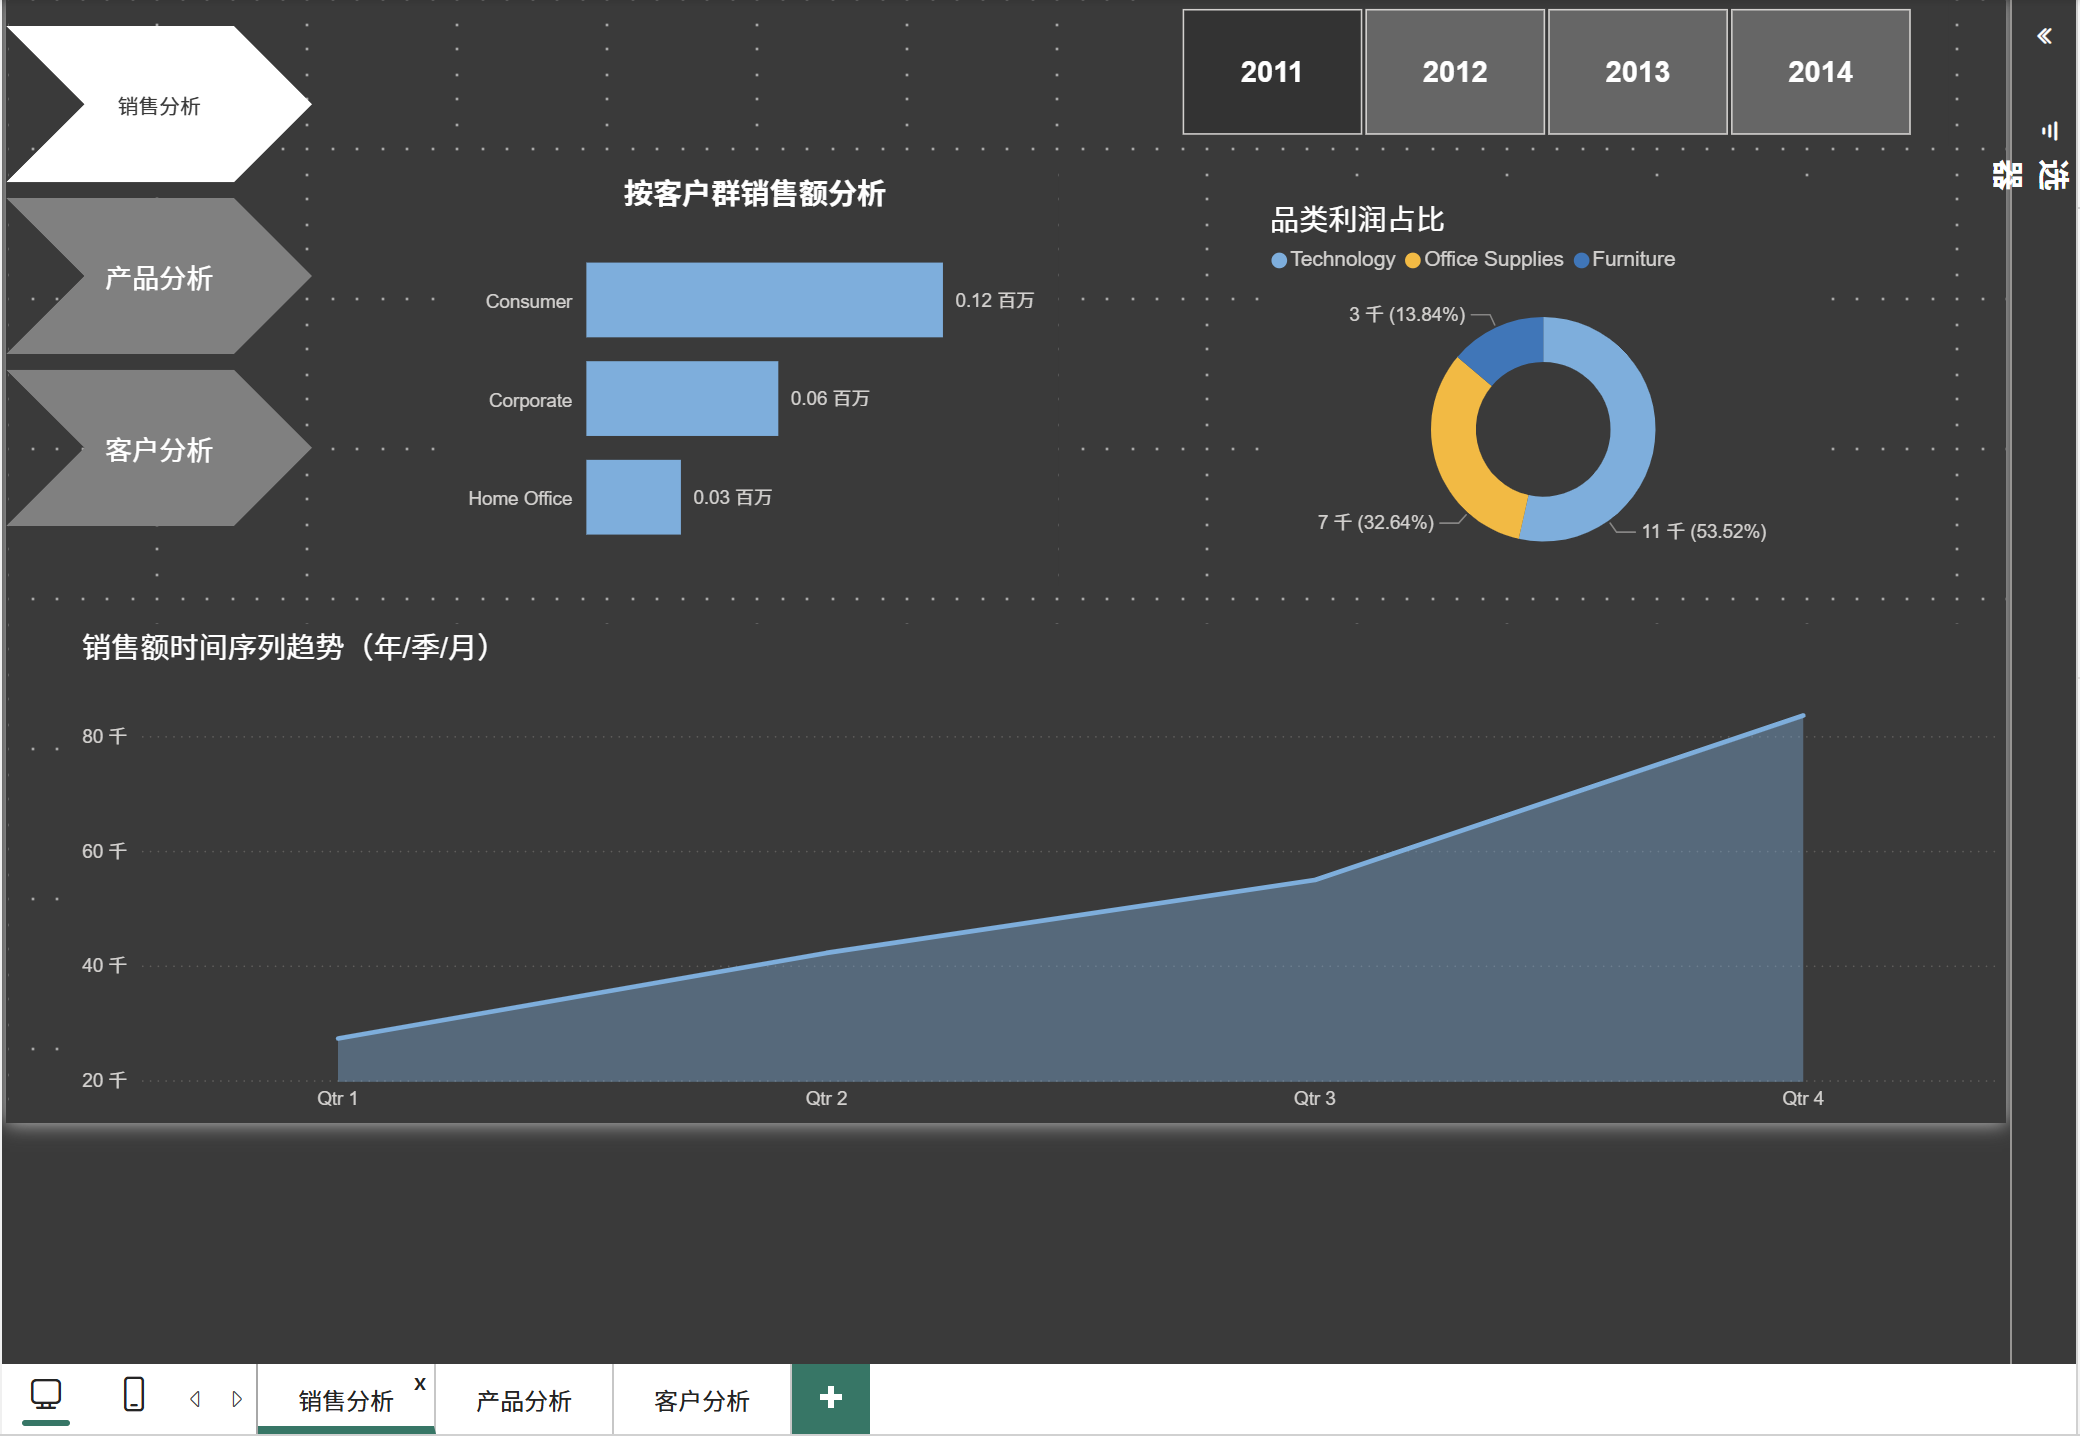

The dashboard page shown, as its layout file describes it:
{"tool":"powerbi","page":{"name":"销售分析","canvas":[1280,720],"ordinal":0},"visuals":[{"type":"clusteredBarChart","title":"按客户群销售额分析","fields":{"Category":["Superstore.Segment"],"Y":["Sum(Superstore.Sales)"]},"box":[285.4,110.1,387.8,266.2],"z":0},{"type":"donutChart","title":"品类利润占比","fields":{"Y":["Sum(Superstore.Profit)"],"Category":["Superstore.Category"]},"box":[804,126.7,360,248],"z":1000},{"type":"slicer","fields":{"Values":["Superstore.Order Date.Variation.Date Hierarchy.Year"]},"box":[727,0,515.8,94.7],"z":3000},{"type":"areaChart","title":"销售额时间序列趋势（年/季/月）","fields":{"Category":["Superstore.Order Date.Variation.Date Hierarchy.Year","Superstore.Order Date.Variation.Date Hierarchy.Quarter","Superstore.Order Date.Variation.Date Hierarchy.Month","Superstore.Order Date.Variation.Date Hierarchy.Day"],"Y":["Sum(Superstore.Sales)"]},"box":[43.2,400,1236.8,320],"z":4000},{"type":"pageNavigator","box":[0,17.6,196,342],"z":5000}]}

Visuals, with their boxes on the page's 1280x720 design canvas (x1, y1, x2, y2). These are canvas units, not pixel positions in the 2080x1436 screenshot, which may show the page scaled, cropped or inside an application window:
"按客户群销售额分析" clusteredBarChart: 285, 110, 673, 376
"品类利润占比" donutChart: 804, 127, 1164, 375
slicer - Superstore.Order Date.Variation.Date Hierarchy.Year: 727, 0, 1243, 95
"销售额时间序列趋势（年/季/月）" areaChart: 43, 400, 1280, 720
pageNavigator: 0, 18, 196, 360
